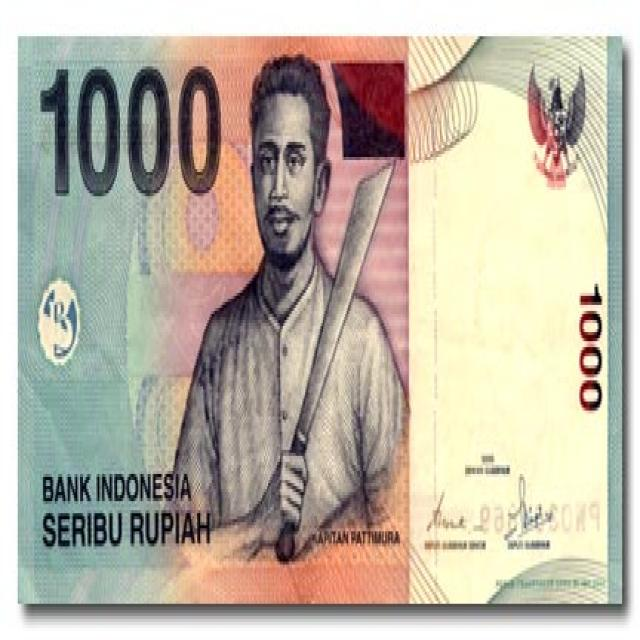seribu rupiah: (17, 33, 623, 606)
